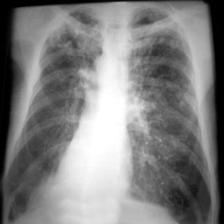tuberculosis: (1, 2, 217, 224)
